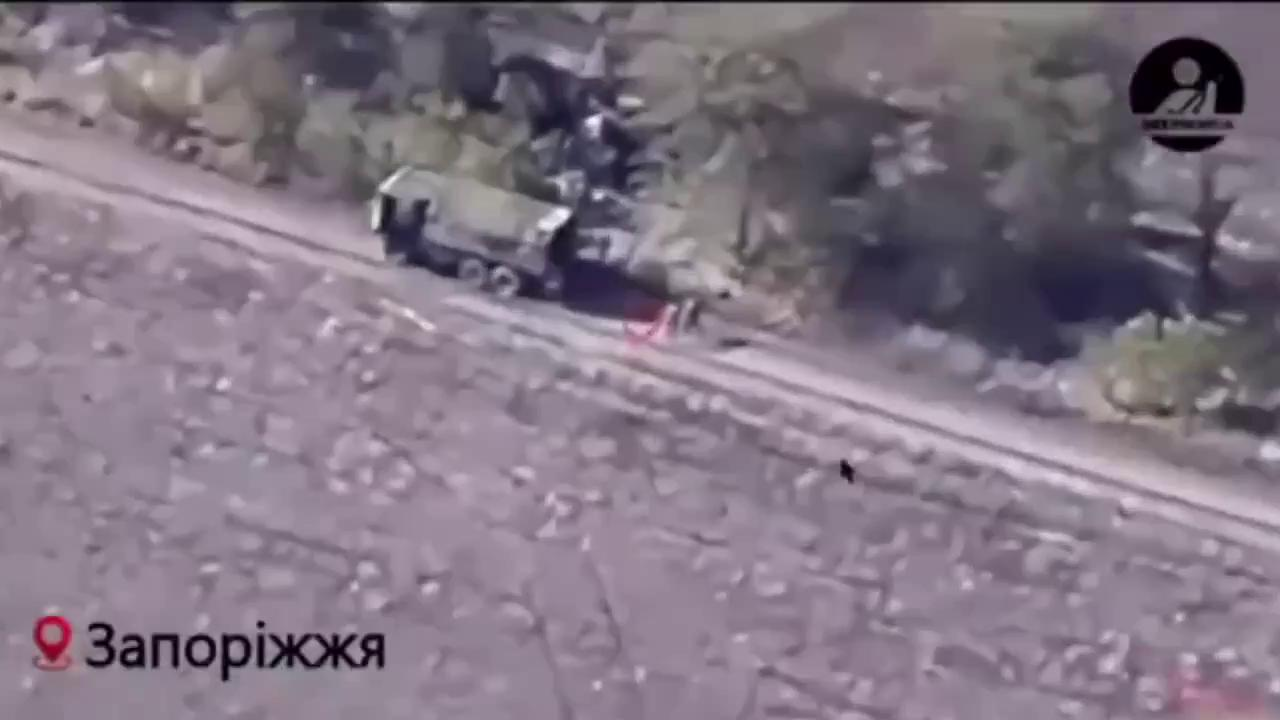tank: (368, 161, 593, 315), (540, 107, 657, 208)
